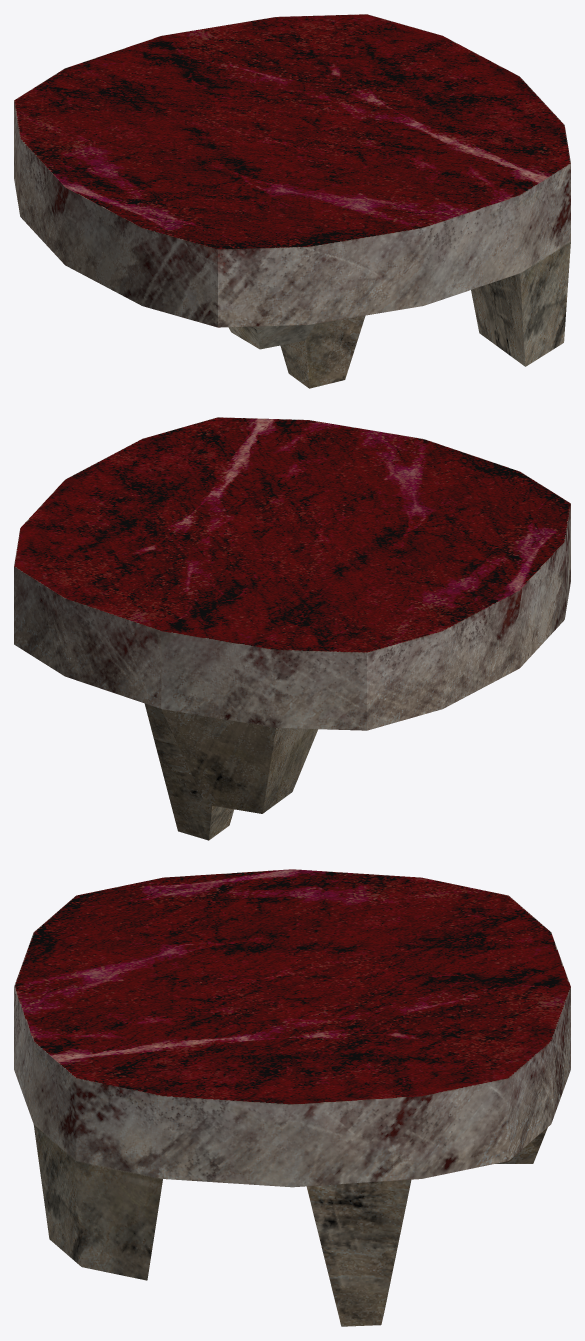
Rendered from NewPlatformFBX.fbx.
3 views of the same model, one above another, from view 1: azimuth 30°, elevation 25°; view 2: azimuth 150°, elevation 25°; view 3: azimuth 270°, elevation 25° (orthographic). The views are drawn at different scales.
Visible parts, largest first — view 1: Platform_1__1_; view 2: Platform_1__1_; view 3: Platform_1__1_.
Part boxes in pixels (box(x1,y1,x2,y2)): Platform_1__1_: box(14, 14, 570, 388); Platform_1__1_: box(14, 417, 570, 840); Platform_1__1_: box(14, 869, 570, 1326).
Bounding box in the file's own units: 547 × 326 × 547.
Materials: 1 (1 with a texture image).
